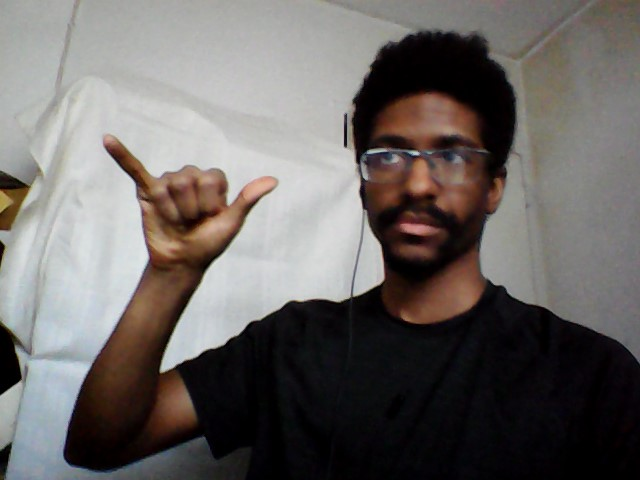y: (99, 128, 282, 268)
